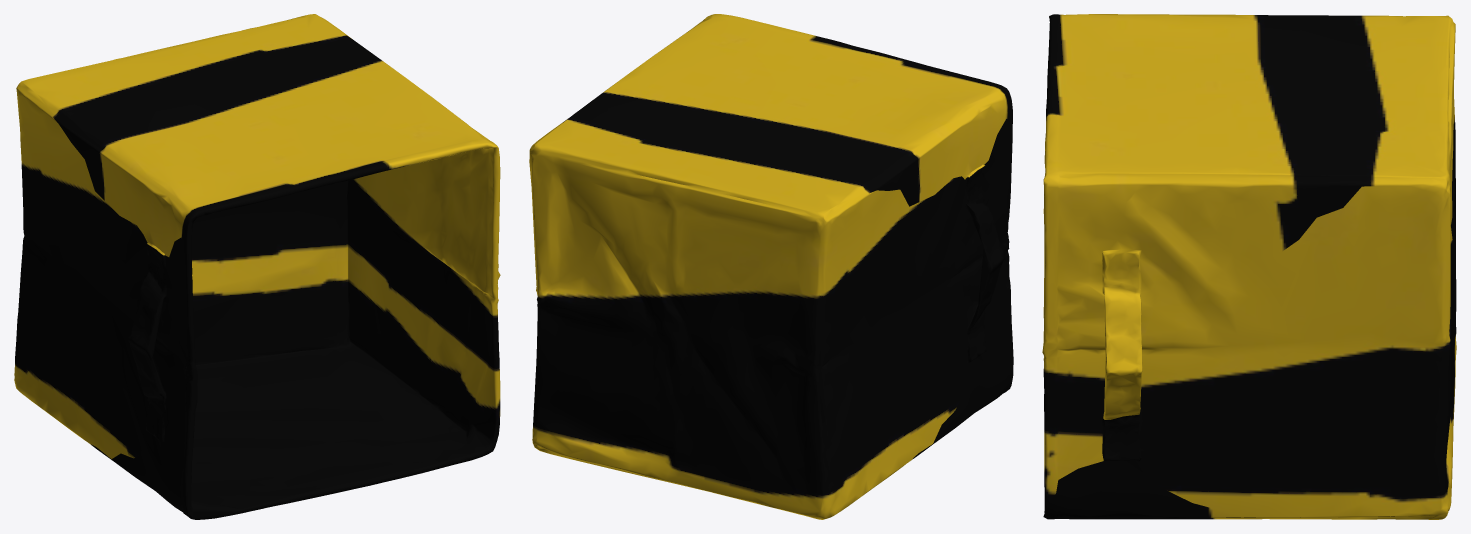
The model's file is closet.obj.
3 renders of one model, left to right at view 1: azimuth 30°, elevation 25°; view 2: azimuth 150°, elevation 25°; view 3: azimuth 270°, elevation 25°, orthographic. The views are drawn at different scales.
Size of the model in its own units: 1.26 by 1.07 by 1.13.
